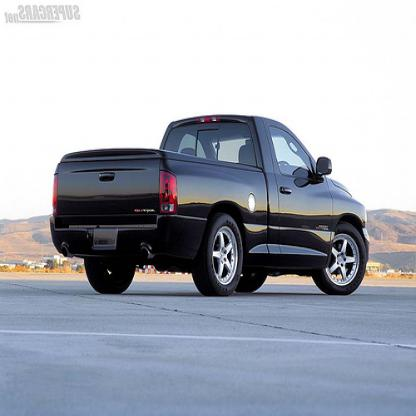car: (51, 114, 371, 297)
